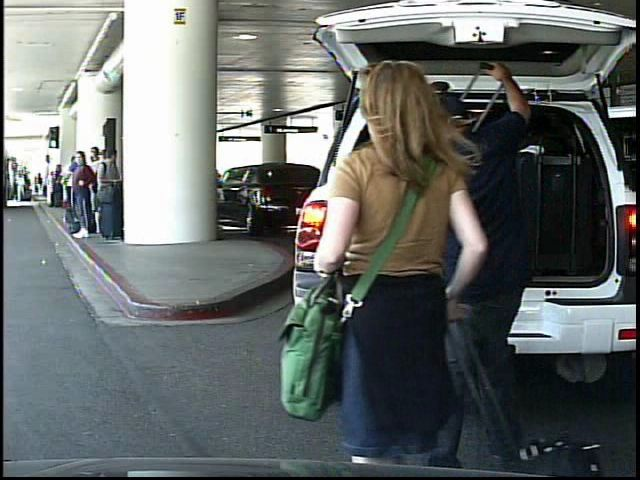person: (305, 46, 499, 474), (386, 64, 551, 456), (16, 174, 27, 205), (35, 172, 46, 199)
